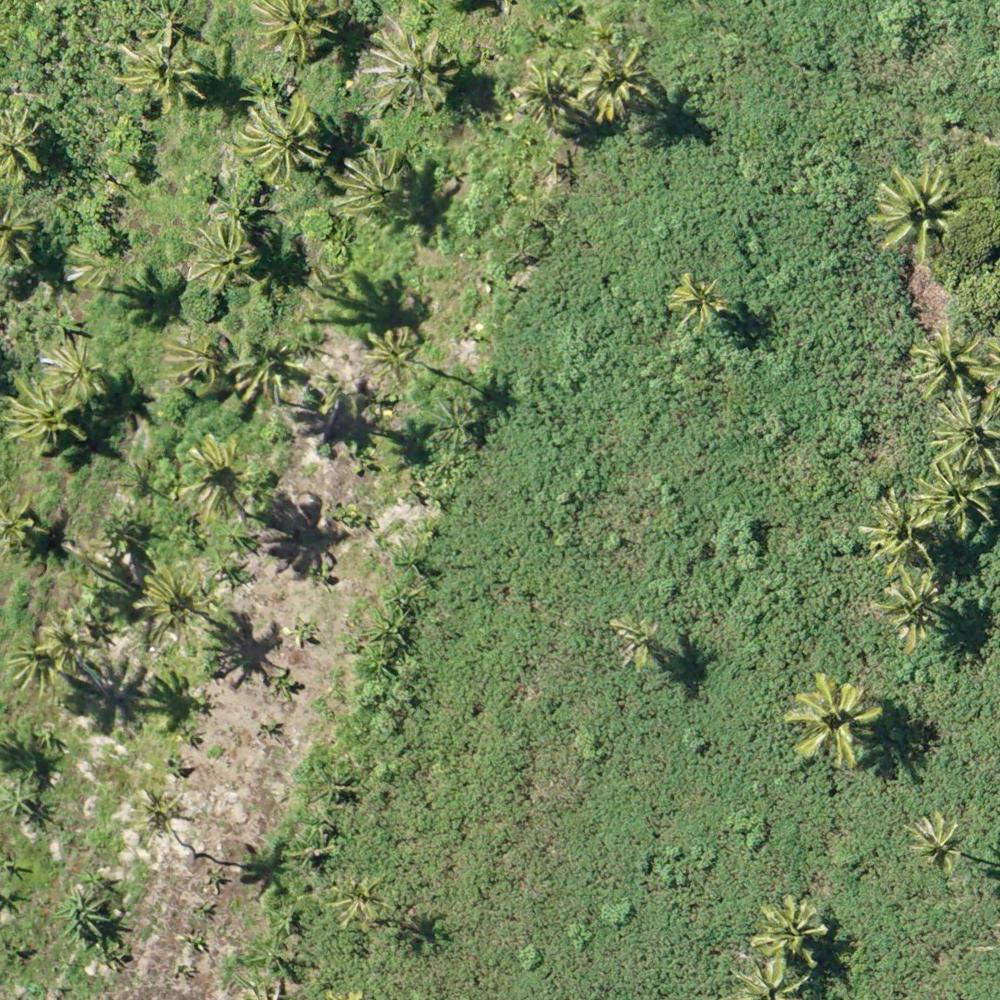not plam: (427, 798, 506, 869), (578, 883, 658, 951), (511, 493, 589, 559), (162, 904, 233, 975), (39, 875, 113, 941), (100, 140, 172, 205), (710, 15, 780, 81), (2, 10, 69, 77), (759, 433, 825, 500), (471, 915, 539, 980), (683, 785, 749, 851), (828, 47, 895, 112), (644, 507, 714, 569), (812, 309, 882, 371), (321, 749, 392, 809), (371, 576, 443, 635), (508, 212, 578, 271), (752, 183, 825, 239)
